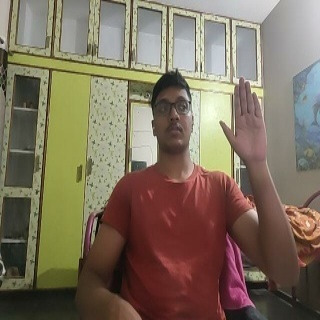Face: (149, 71, 195, 155)
Hello: (219, 76, 271, 168)
